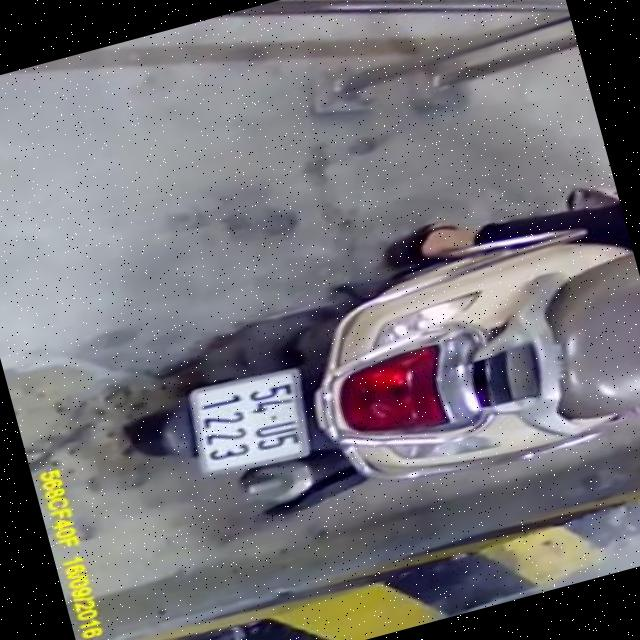license_plate: (178, 368, 318, 483), (178, 366, 318, 478)
